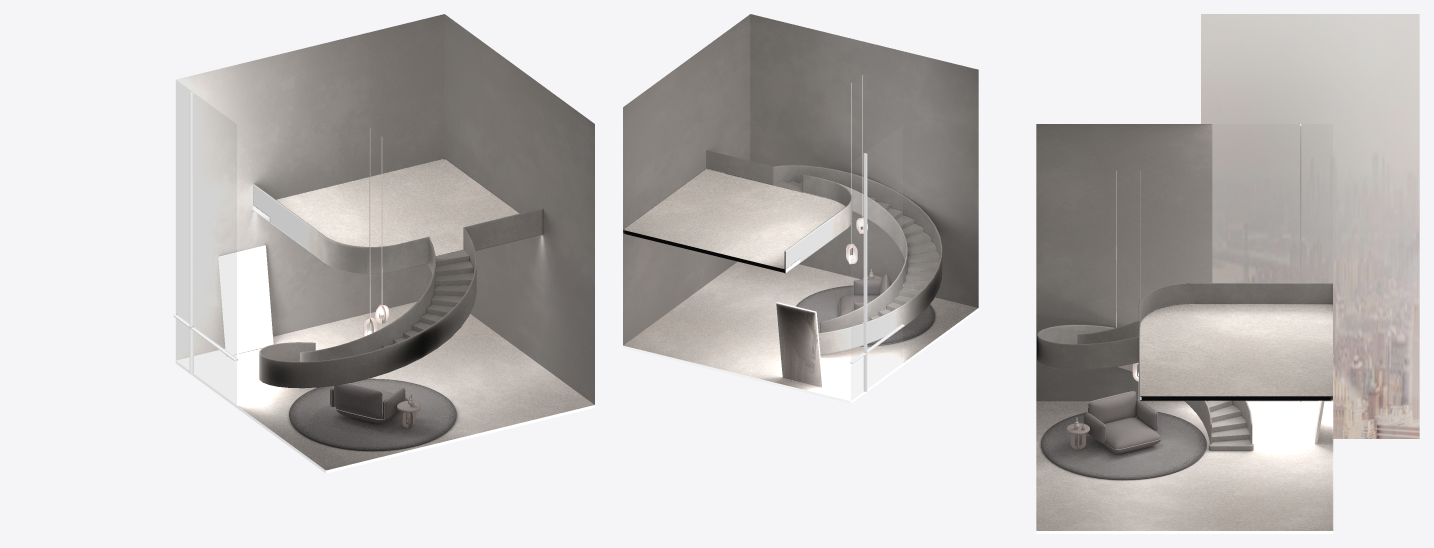
The model's file is vr_apartment_loft_interior__baked.glb.
3 views of the same model, side by side, from view 1: azimuth 30°, elevation 25°; view 2: azimuth 150°, elevation 25°; view 3: azimuth 270°, elevation 25° (orthographic). The views are drawn at different scales.
Parts seen in each view (by area): view 1: House, floor, Stairs, 2nd_floor, carpet, painting, sofa, lighting; view 2: House, floor, Stairs, 2nd_floor, painting, carpet, sofa, lighting; view 3: outside, House, floor, 2nd_floor, Stairs, carpet, sofa.
Part boxes in pixels (bbox=[...]): House: bbox=[173, 14, 594, 404]; floor: bbox=[175, 302, 594, 473]; Stairs: bbox=[253, 184, 542, 388]; 2nd_floor: bbox=[253, 159, 519, 255]; carpet: bbox=[289, 378, 456, 450]; painting: bbox=[218, 245, 273, 356]; sofa: bbox=[330, 382, 407, 423]; lighting: bbox=[363, 128, 388, 336]; House: bbox=[623, 14, 978, 391]; floor: bbox=[623, 261, 978, 403]; Stairs: bbox=[706, 150, 942, 355]; 2nd_floor: bbox=[624, 169, 845, 272]; painting: bbox=[776, 302, 822, 387]; carpet: bbox=[796, 285, 934, 346]; sofa: bbox=[839, 275, 891, 315]; lighting: bbox=[846, 75, 867, 264]; outside: bbox=[1201, 14, 1419, 438]; House: bbox=[1036, 124, 1333, 401]; floor: bbox=[1036, 401, 1333, 533]; 2nd_floor: bbox=[1139, 304, 1332, 400]; Stairs: bbox=[1037, 283, 1332, 450]; carpet: bbox=[1041, 411, 1206, 479]; sofa: bbox=[1083, 391, 1161, 453].
Size of the model in its own units: 11.79 by 12.54 by 10.24.
16 materials, 12 textured.
